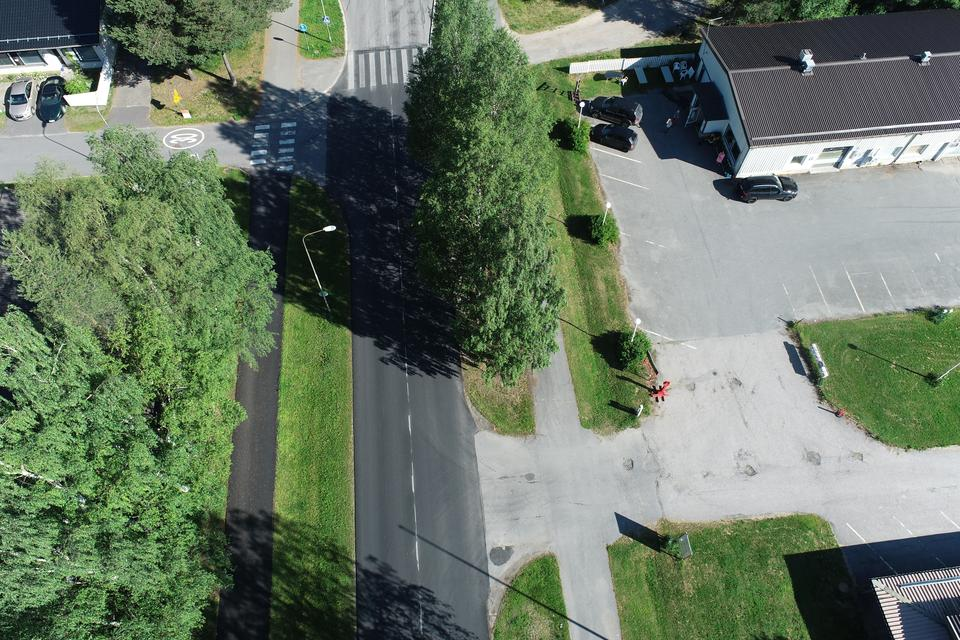intersection: (324, 392, 643, 593), (200, 109, 371, 212), (249, 32, 420, 96)
